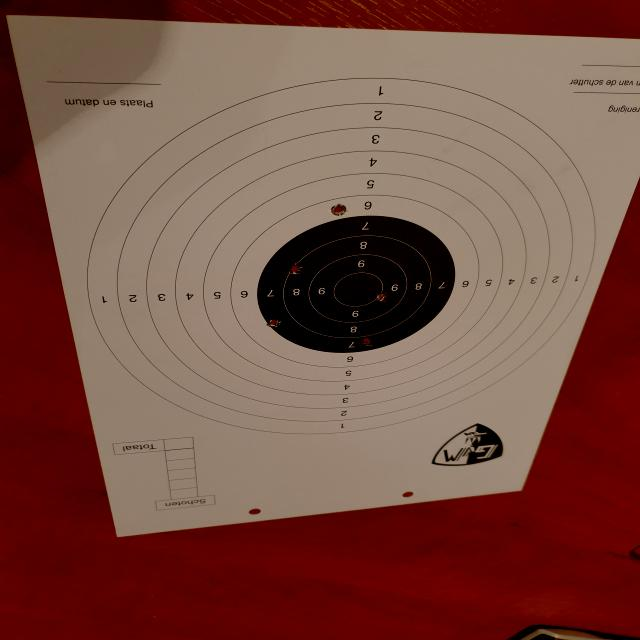10: (375, 292, 392, 302)
6: (330, 203, 348, 217)
7: (359, 336, 377, 347), (266, 317, 282, 328)
8: (287, 263, 305, 275)
Target: (86, 75, 594, 436)
black_contour: (257, 215, 456, 354)
